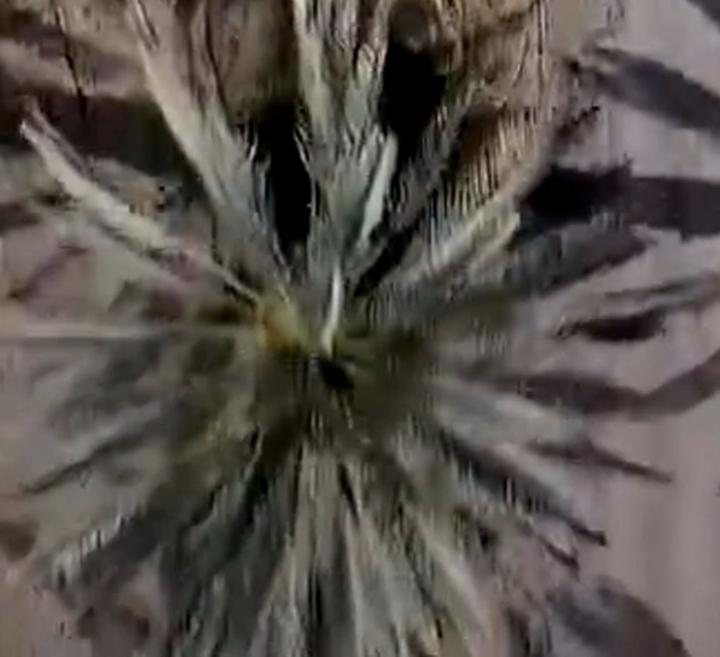Date-Palm-Crown: (166, 173, 483, 523)
